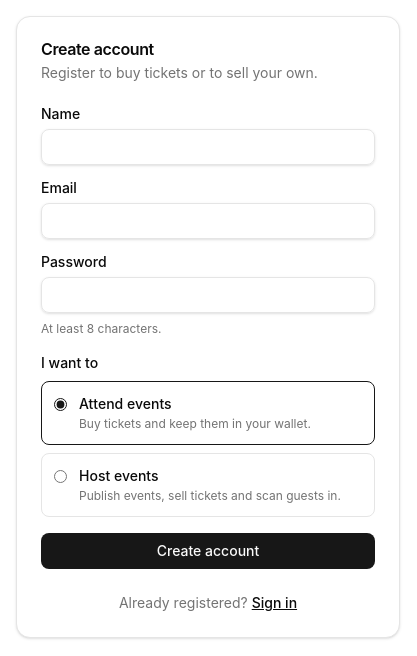
RegisterPage › blocks a second submit while registering
Type "Dora Klein" into the field with id "name" at (208, 147), box [41, 129, 375, 165]
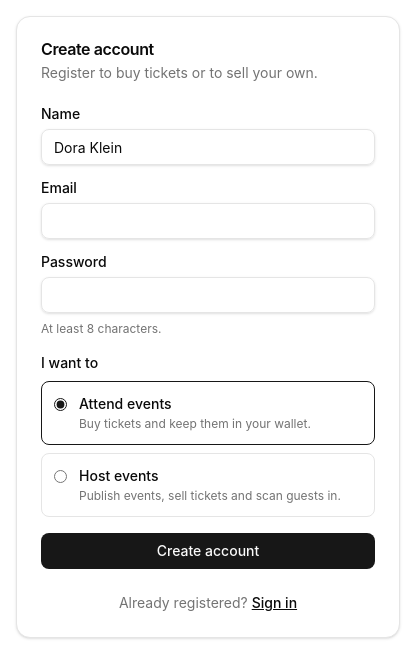
Type "dora@example.com" into the field with id "email" at (208, 221), box [41, 203, 375, 239]
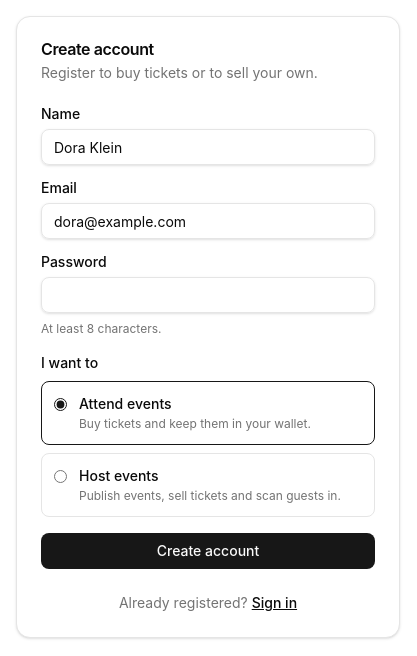
Type "user12345" into the password field labelled "Password" at (208, 295), box [41, 277, 375, 313]
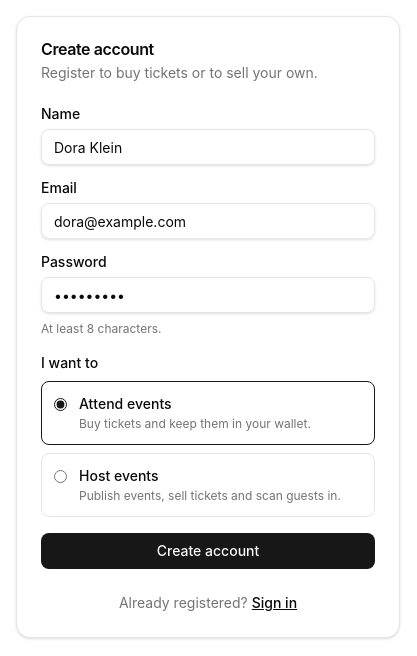
Submit the form, box [41, 107, 375, 569]
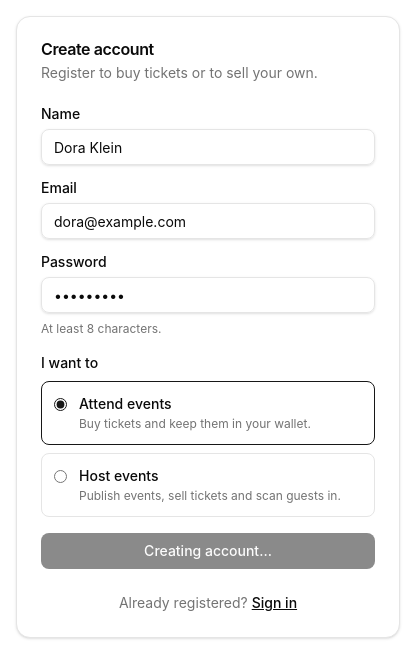
Check: the submit button is disabled, box [41, 533, 375, 569]
